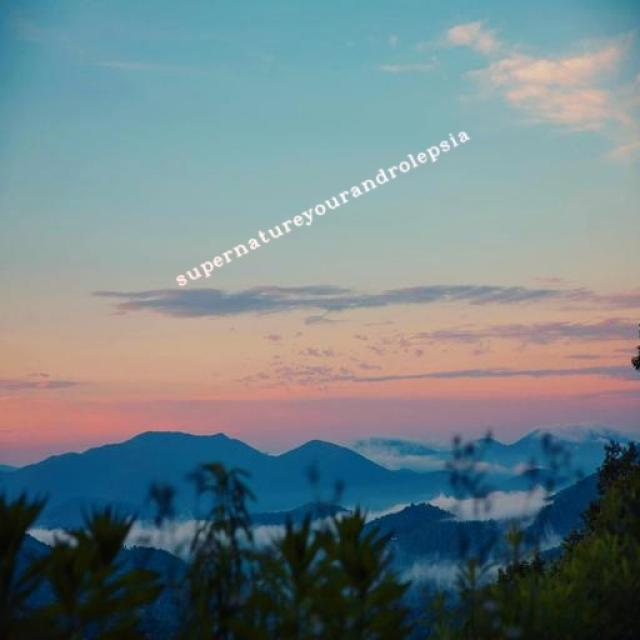watermark: (172, 122, 470, 289)
